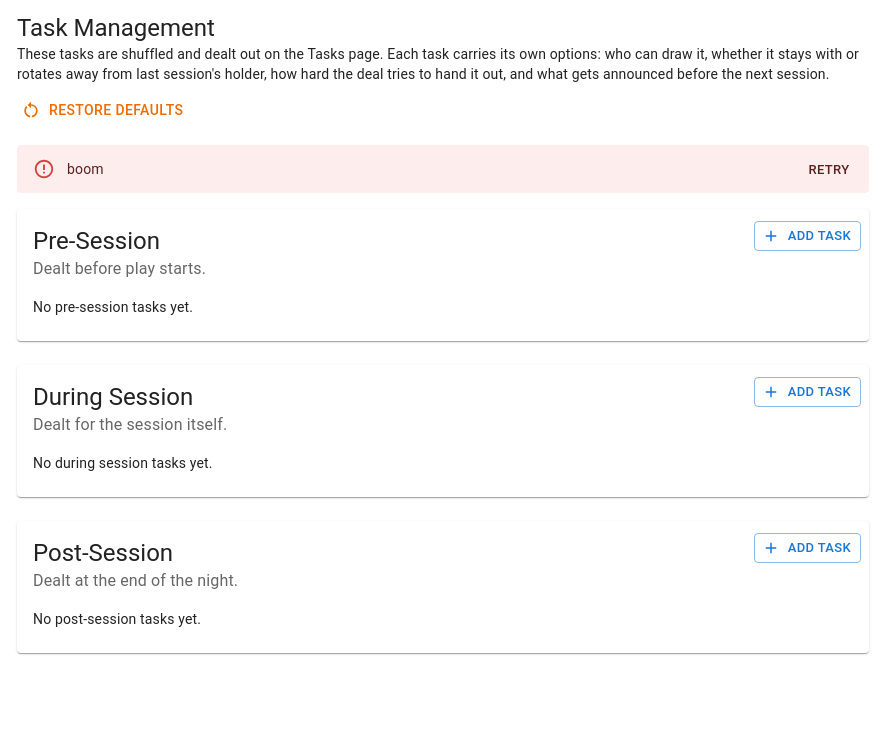
TaskManagement › shows a retryable error when loading fails
Expected: the text "boom" is shown, x1=67 y1=160 x2=104 y2=176
Step 1. Click the button "Retry" → [829, 170], box x1=797 y1=154 x2=861 y2=185
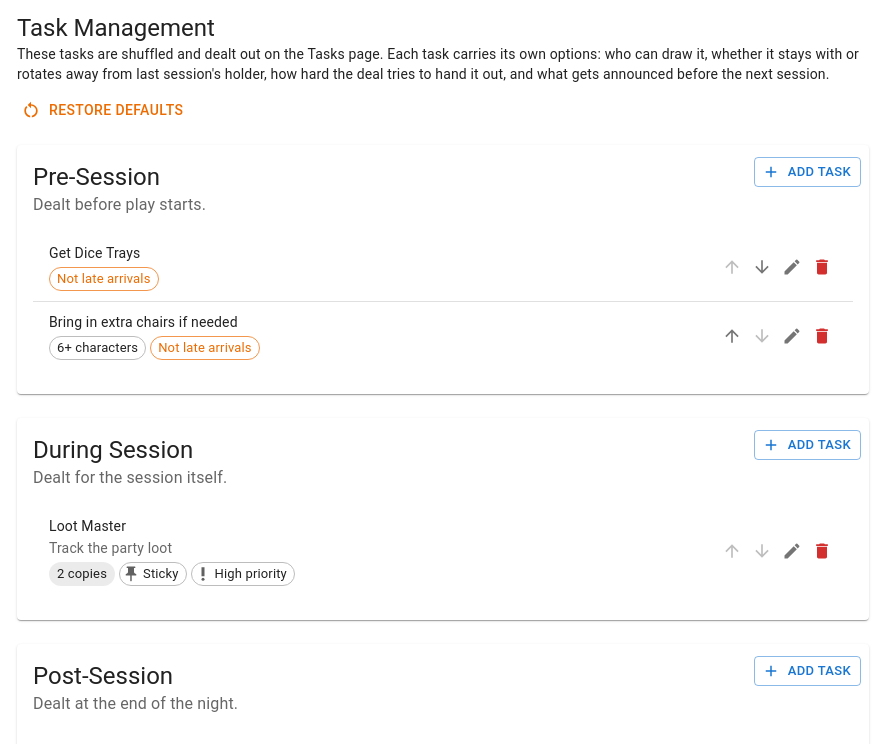
Expected: the text "Get Dice Trays" is shown, x1=49 y1=245 x2=140 y2=261
